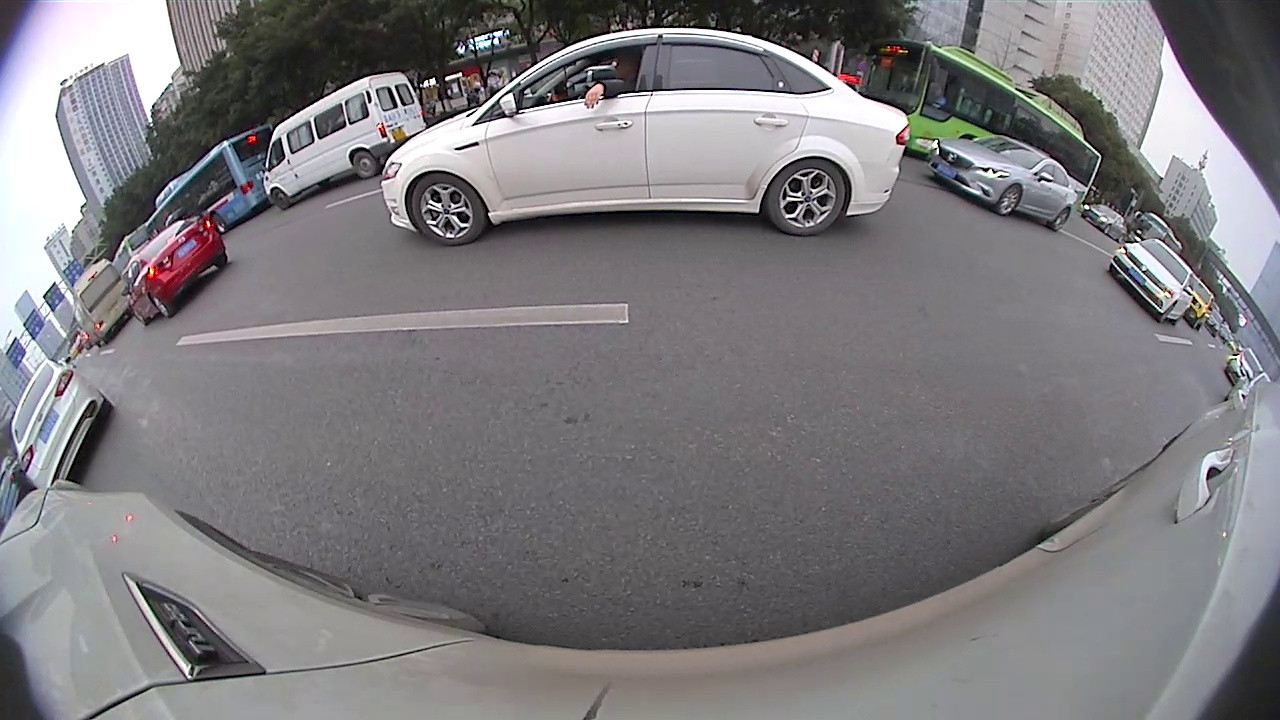bus: (870, 37, 1100, 231), (148, 122, 274, 242), (69, 259, 130, 347)
car: (382, 29, 909, 248), (266, 71, 425, 208), (924, 137, 1078, 231), (10, 362, 113, 489), (135, 215, 228, 324), (1108, 245, 1202, 327)
front: (413, 173, 483, 244), (995, 184, 1024, 213), (270, 189, 290, 210)
rear: (767, 158, 846, 235), (352, 151, 376, 179), (149, 294, 172, 317), (1048, 208, 1070, 232), (212, 210, 227, 233)
